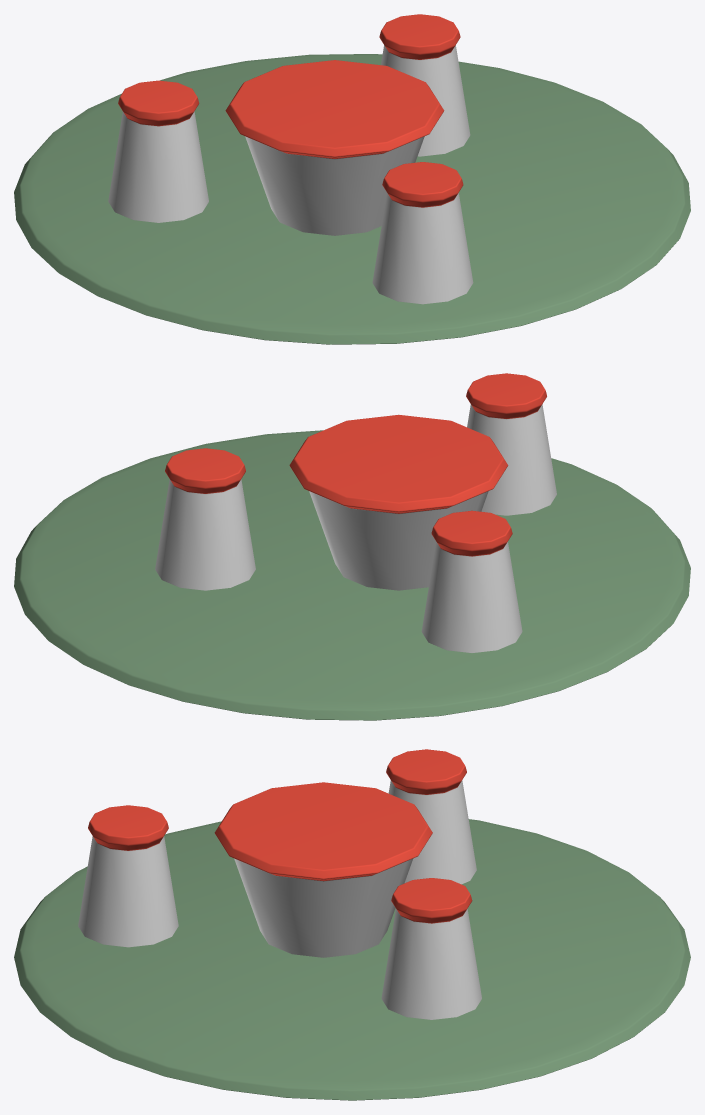
The model's file is deco_tables.fbx.
3 renders of one model, top to bottom at view 1: azimuth 30°, elevation 25°; view 2: azimuth 150°, elevation 25°; view 3: azimuth 270°, elevation 25°, orthographic.
Parts seen in each view (by area): view 1: deco_tables; view 2: deco_tables; view 3: deco_tables.
Part boxes in pixels (bbox=[...]): deco_tables: bbox=[14, 14, 690, 344]; deco_tables: bbox=[14, 373, 690, 720]; deco_tables: bbox=[14, 749, 690, 1100].
Bounding box in the file's own units: 551 × 551 × 104.
